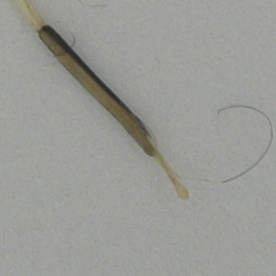เมล้ดปลายพู่กัน: (11, 1, 275, 206)
